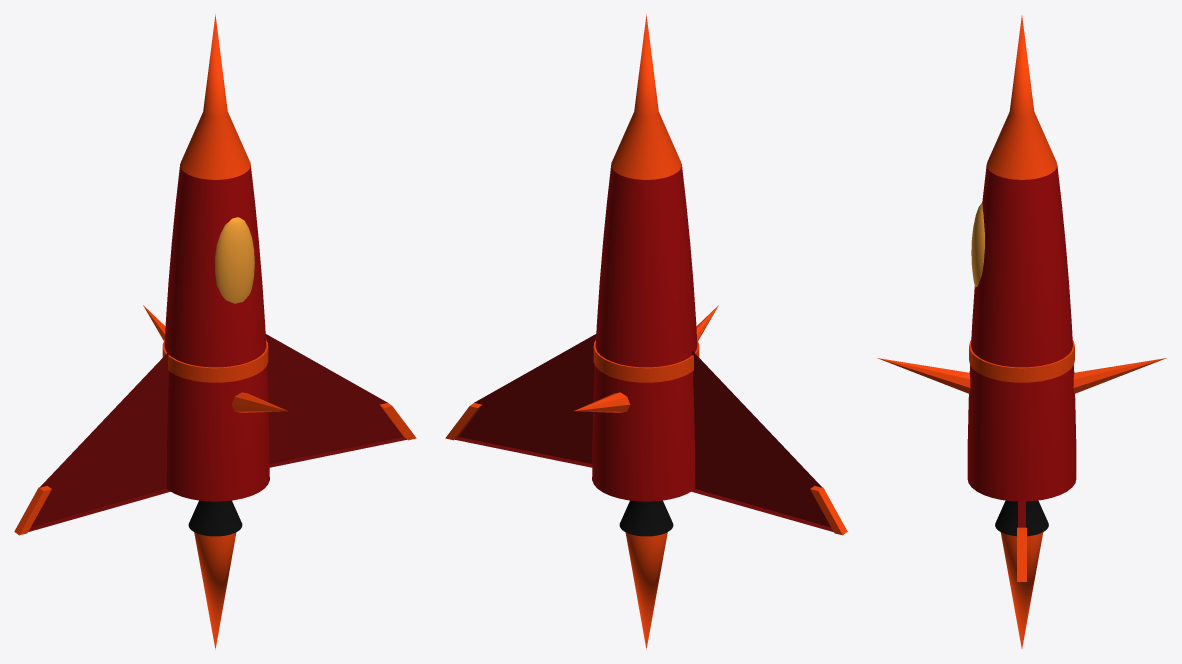
The model's file is Rocket_36_InfernoFighter.obj.
3 views of the same model, side by side, from view 1: azimuth 30°, elevation 25°; view 2: azimuth 150°, elevation 25°; view 3: azimuth 270°, elevation 25° (orthographic).
Visible parts, largest first — view 1: R36_Body, R36_Fin_2, R36_Fin_1, R36_Nose, R36_Cockpit, R36_Flame_1, R36_Band_1, R36_Nozzle_1, R36_FinGlow_2, R36_Spike_2; view 2: R36_Body, R36_Fin_2, R36_Fin_1, R36_Nose, R36_Flame_1, R36_Band_1, R36_Nozzle_1, R36_FinGlow_2, R36_Spike_1; view 3: R36_Body, R36_Nose, R36_Flame_1, R36_Band_1, R36_Nozzle_1, R36_Spike_1, R36_Spike_2, R36_Cockpit, R36_FinGlow_1.
Boxes of the visible parts, <box> form: R36_Body: <box>164,164,269,501</box>; R36_Fin_2: <box>28,350,170,531</box>; R36_Fin_1: <box>265,334,406,467</box>; R36_Nose: <box>180,14,250,179</box>; R36_Cockpit: <box>215,217,254,303</box>; R36_Flame_1: <box>194,532,236,649</box>; R36_Band_1: <box>162,340,268,382</box>; R36_Nozzle_1: <box>188,500,242,536</box>; R36_FinGlow_2: <box>14,486,51,535</box>; R36_Spike_2: <box>231,392,287,412</box>; R36_Body: <box>592,164,697,501</box>; R36_Fin_2: <box>691,350,833,531</box>; R36_Fin_1: <box>455,334,596,467</box>; R36_Nose: <box>611,14,681,179</box>; R36_Flame_1: <box>625,532,667,649</box>; R36_Band_1: <box>593,340,699,382</box>; R36_Nozzle_1: <box>619,500,673,536</box>; R36_FinGlow_2: <box>810,486,847,535</box>; R36_Spike_1: <box>574,392,630,412</box>; R36_Body: <box>967,166,1076,501</box>; R36_Nose: <box>986,15,1057,179</box>; R36_Flame_1: <box>1000,532,1043,648</box>; R36_Band_1: <box>969,340,1074,382</box>; R36_Nozzle_1: <box>995,500,1048,536</box>; R36_Spike_1: <box>1073,358,1166,393</box>; R36_Spike_2: <box>877,358,970,393</box>; R36_Cockpit: <box>971,202,984,287</box>; R36_FinGlow_1: <box>1017,527,1026,581</box>.
Bounding box in the file's own units: 7.16 × 10.95 × 4.54.
